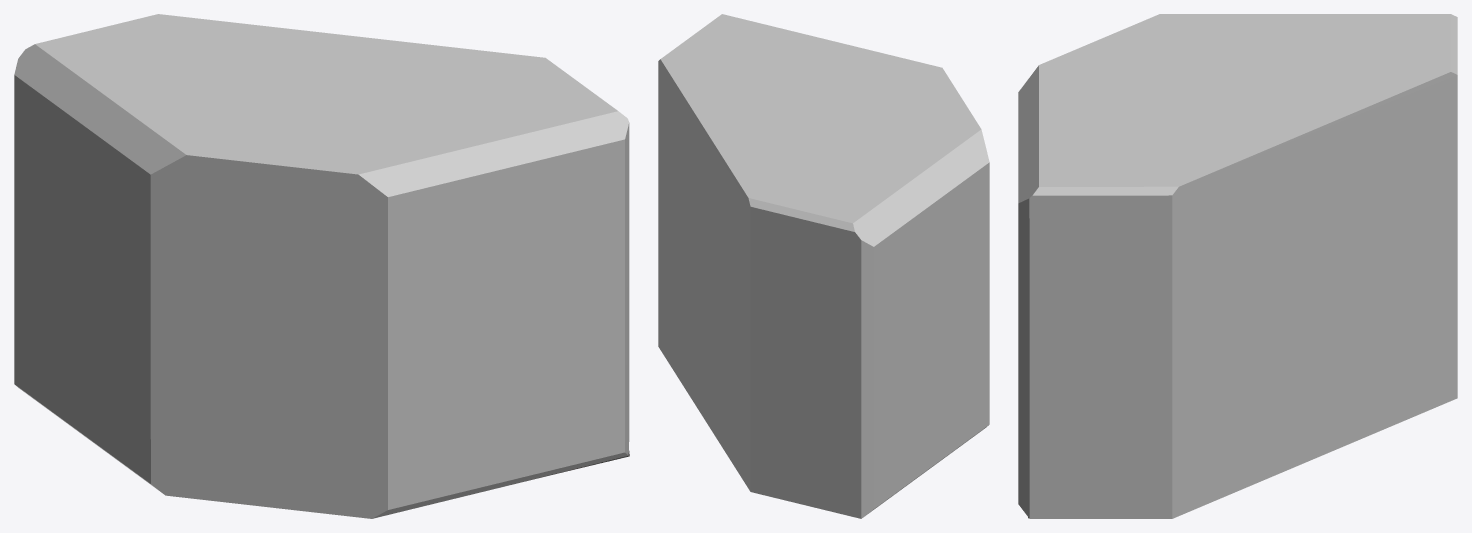
File: SM_StoneWallCorner.fbx
3 views of the same model, side by side, from view 1: azimuth 30°, elevation 25°; view 2: azimuth 150°, elevation 25°; view 3: azimuth 270°, elevation 25° (orthographic). The views are drawn at different scales.
Visible parts, largest first — view 1: SM_StoneWallCorner_ConvexHulls; view 2: SM_StoneWallCorner_ConvexHulls; view 3: SM_StoneWallCorner_ConvexHulls.
Part boxes in pixels (bbox=[...]): SM_StoneWallCorner_ConvexHulls: bbox=[14, 14, 629, 518]; SM_StoneWallCorner_ConvexHulls: bbox=[658, 14, 989, 518]; SM_StoneWallCorner_ConvexHulls: bbox=[1018, 14, 1457, 518].
Size of the model in its own units: 124 by 123 by 102.
